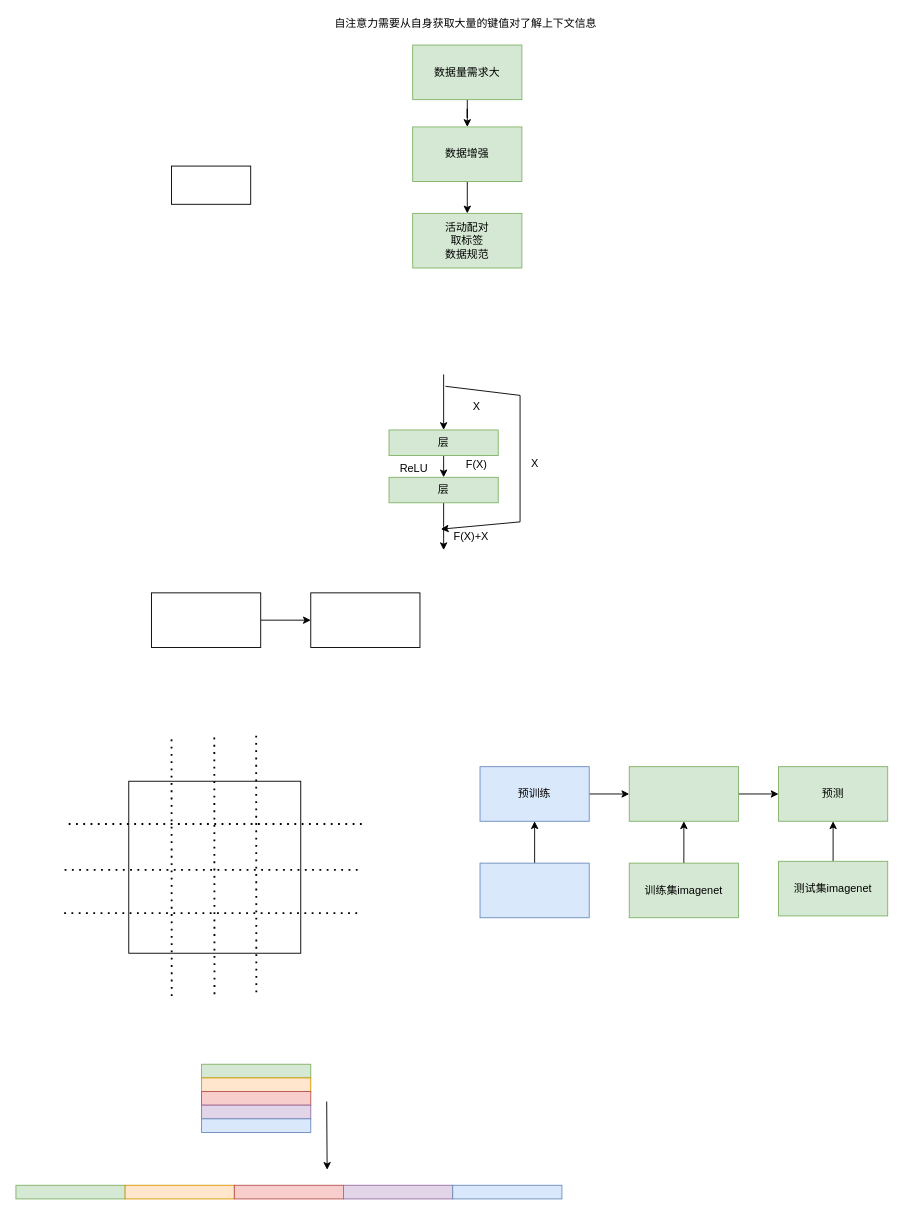
This 904x1215 diagram has some shape labels left out. The centre of each missing label's shape, as x and y in pixels:
"H,W,C" goes at point (206, 619).
"调优" goes at point (683, 793).
"超大数据集JFT（私）" goes at point (534, 890).
"键值对" goes at point (211, 184).
